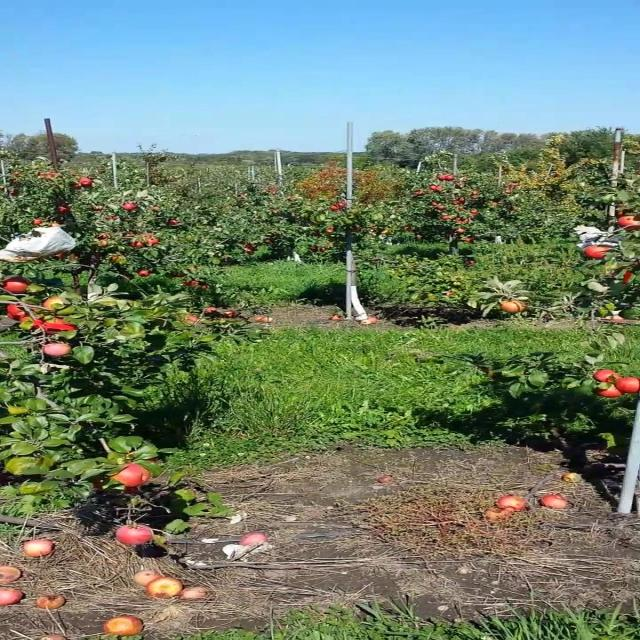apple: (113, 464, 151, 486), (120, 528, 156, 547), (49, 320, 78, 336), (42, 344, 71, 358), (6, 280, 28, 295), (596, 388, 626, 399), (6, 304, 27, 319), (618, 216, 638, 231), (589, 248, 612, 260), (596, 372, 619, 384), (20, 316, 43, 328), (618, 380, 639, 393), (504, 300, 524, 313), (625, 216, 639, 232), (511, 300, 528, 313), (42, 300, 62, 311), (28, 320, 46, 331), (120, 488, 142, 496), (92, 480, 107, 490), (618, 208, 631, 217), (625, 272, 633, 282)
